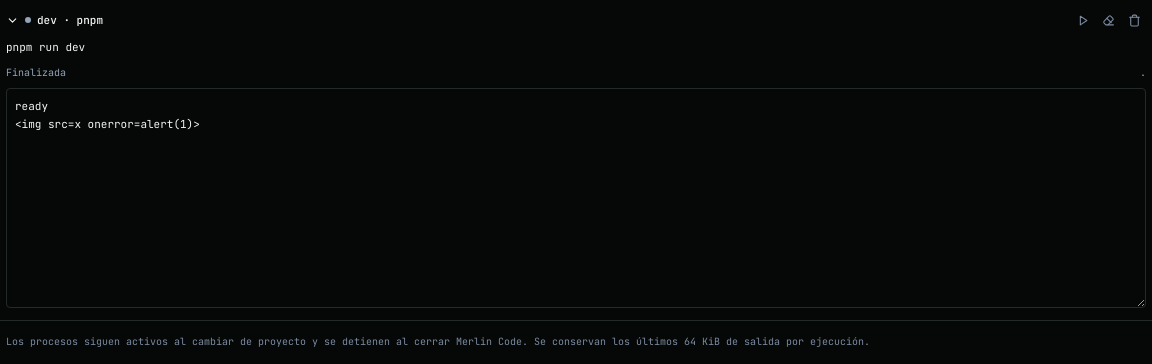
application execution controls › reruns edited source with fresh evidence and replaces the old entry
Click the button named "Volver a ejecutar".
click(1082, 20)  # box [1070,8,1094,32]
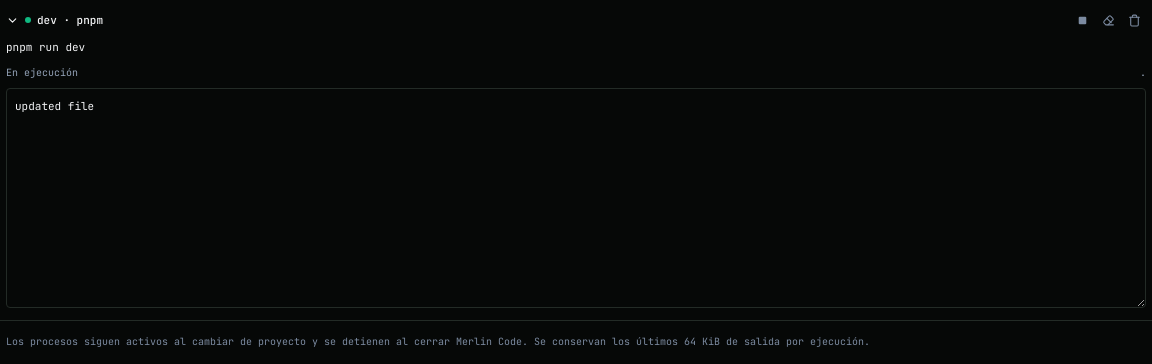
Expected: the text "updated file" is shown, [6,88,1146,308]
